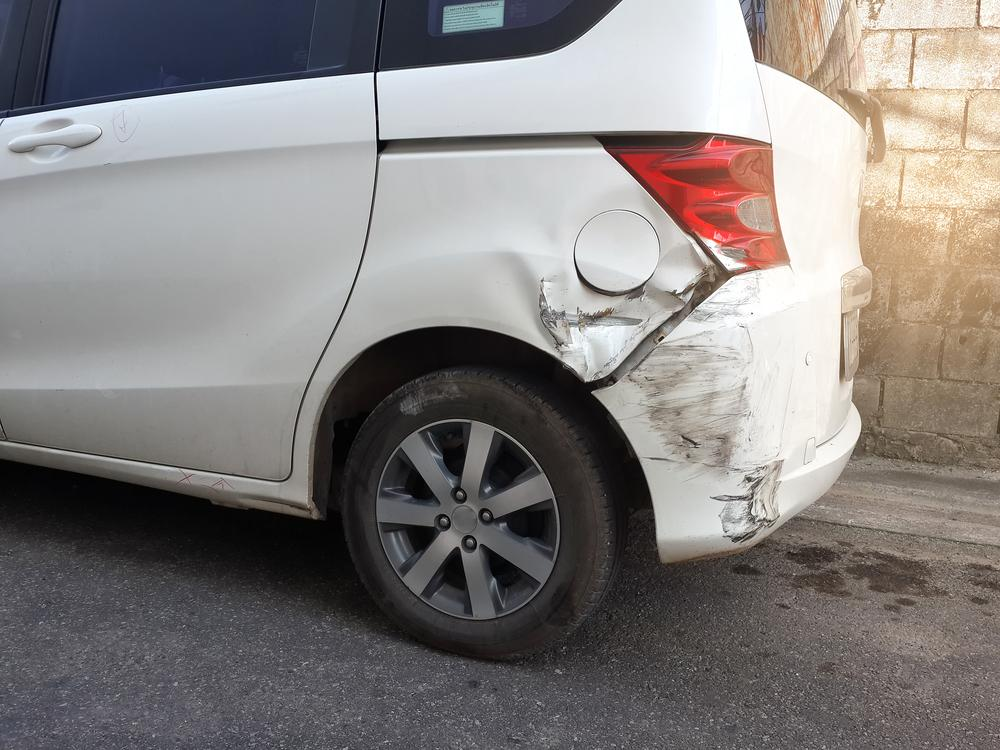dent: (495, 184, 716, 386)
lamp broken: (604, 136, 790, 272)
scratch: (625, 270, 786, 548)
